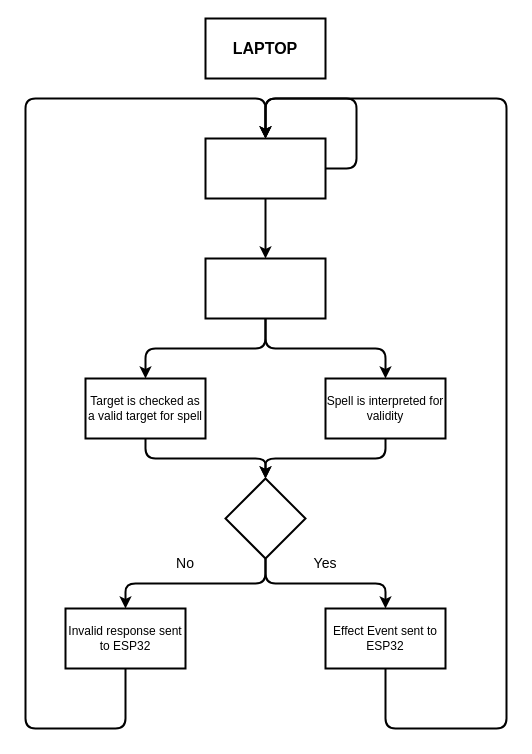
Image size: 532x754. Some labels were removed from this diagram. Each missing label, with the box of its shape:
Are both valid?: (224, 477, 306, 559)
Idle: (204, 137, 326, 199)
Spell & Target Event are recieved: (204, 257, 326, 319)
